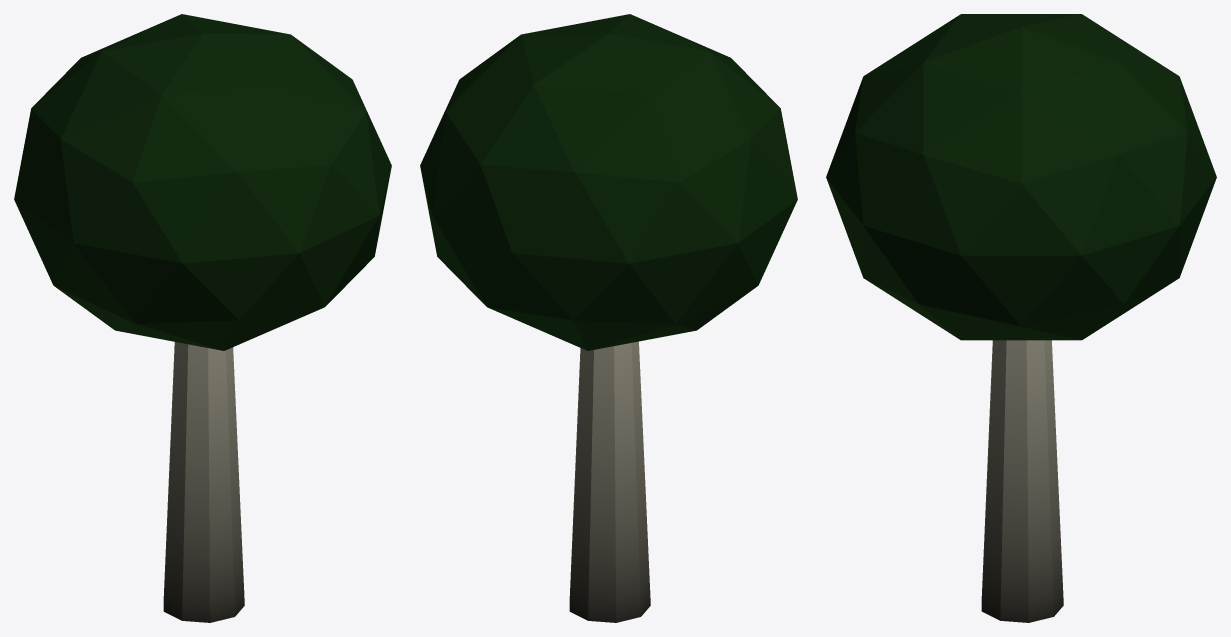
Rendered from SM_Tree_01_birch_origcrown.fbx.
The picture shows the model from 3 angles, left to right: view 1: azimuth 30°, elevation 25°; view 2: azimuth 150°, elevation 25°; view 3: azimuth 270°, elevation 25°; orthographic projection.
Visible parts, largest first — view 1: SM_Tree_01; view 2: SM_Tree_01; view 3: SM_Tree_01.
Boxes of the visible parts, x1,y1,x2,y2 form: SM_Tree_01: (14,14,391,622); SM_Tree_01: (420,14,797,622); SM_Tree_01: (826,14,1216,622).
Size of the model in its own units: 114 by 196 by 120.
